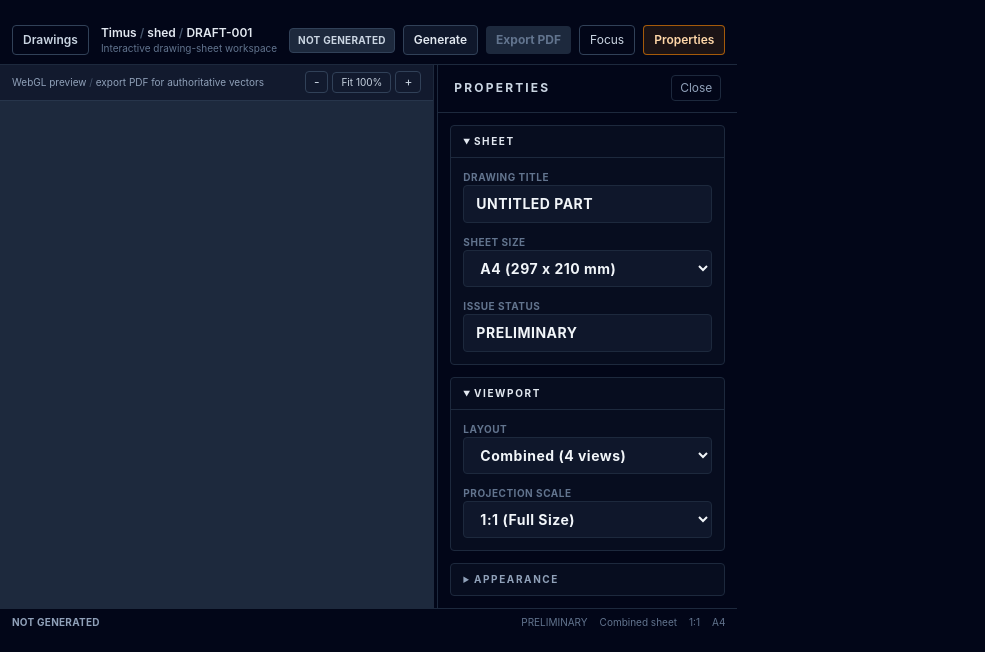
Timus canvas-first workspace › provides fit and bounded zoom controls without changing drawing scale
Expected: the button "Fit 100%" is shown, [332,72,391,92]
Step 1. Click the button named "Zoom in" → x=408, y=82, box [395,71,421,93]
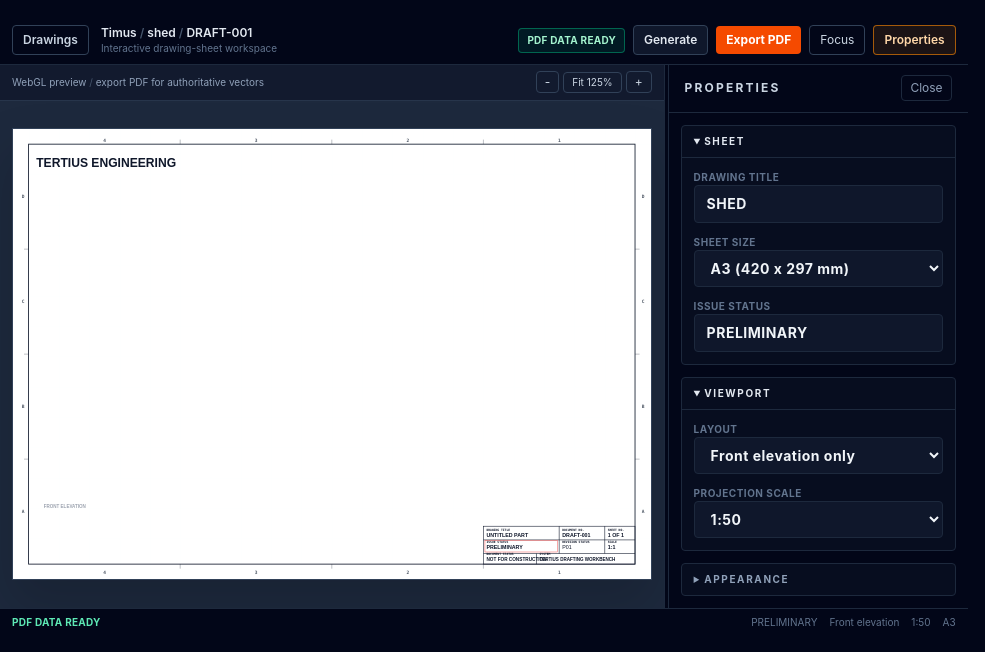
Expected: the button "Fit 125%" is shown
Step 2. Click the button "Fit 125%" → x=592, y=82, box [563,72,622,92]
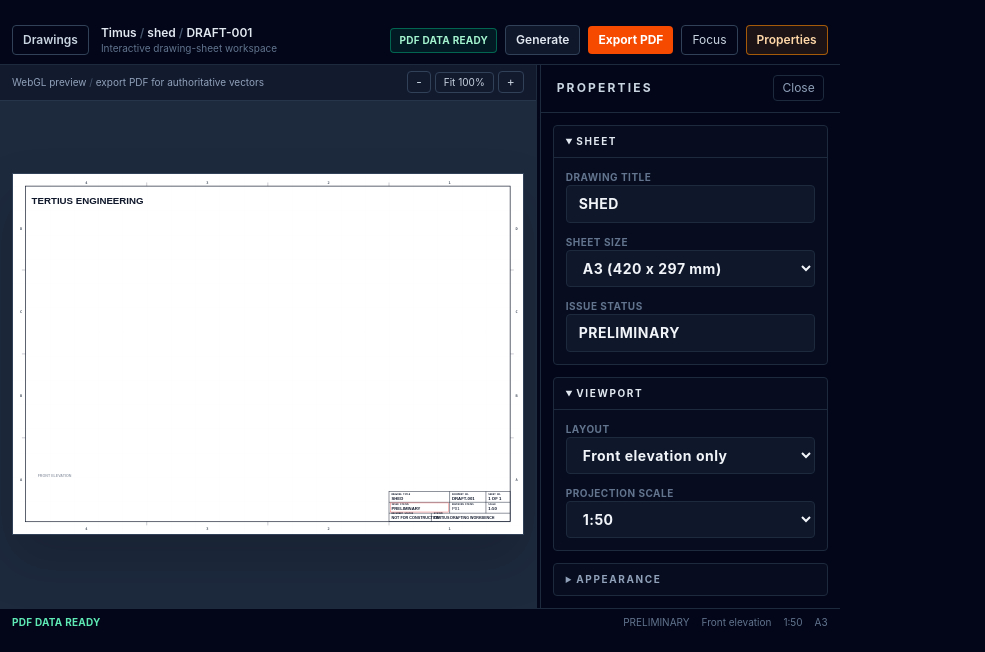
Expected: the button "Fit 100%" is shown, [435,72,494,92]
